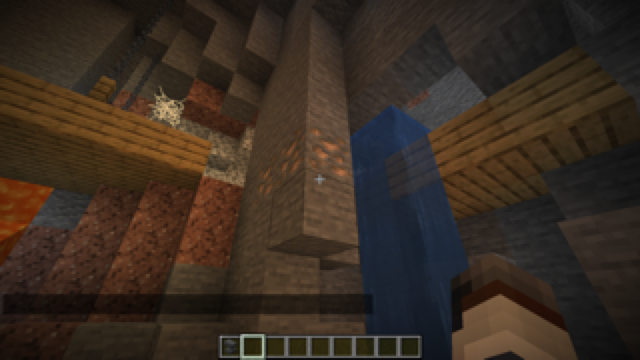iron: (257, 132, 353, 194)
